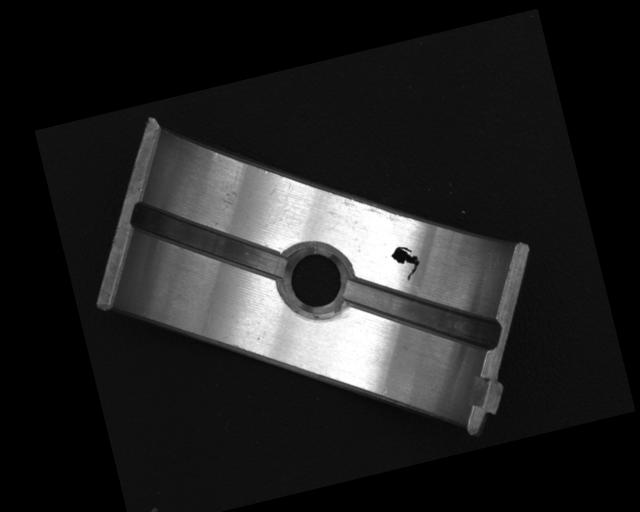blot: (388, 242, 424, 284)
gap: (128, 174, 291, 308), (342, 249, 502, 380)
hole: (280, 242, 355, 321)
